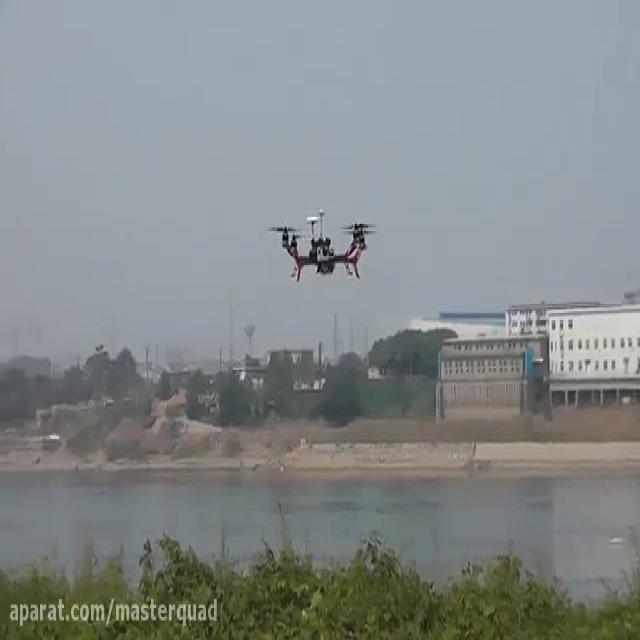drone: (263, 205, 380, 286)
